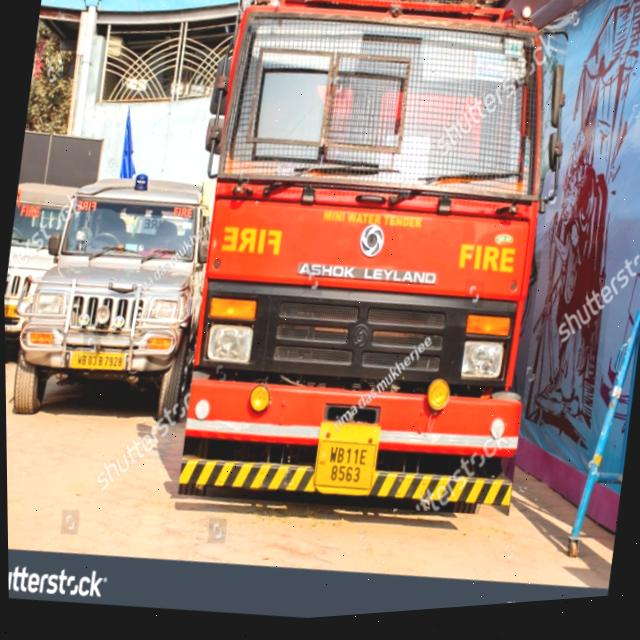Fire Truck: (170, 0, 579, 544)
